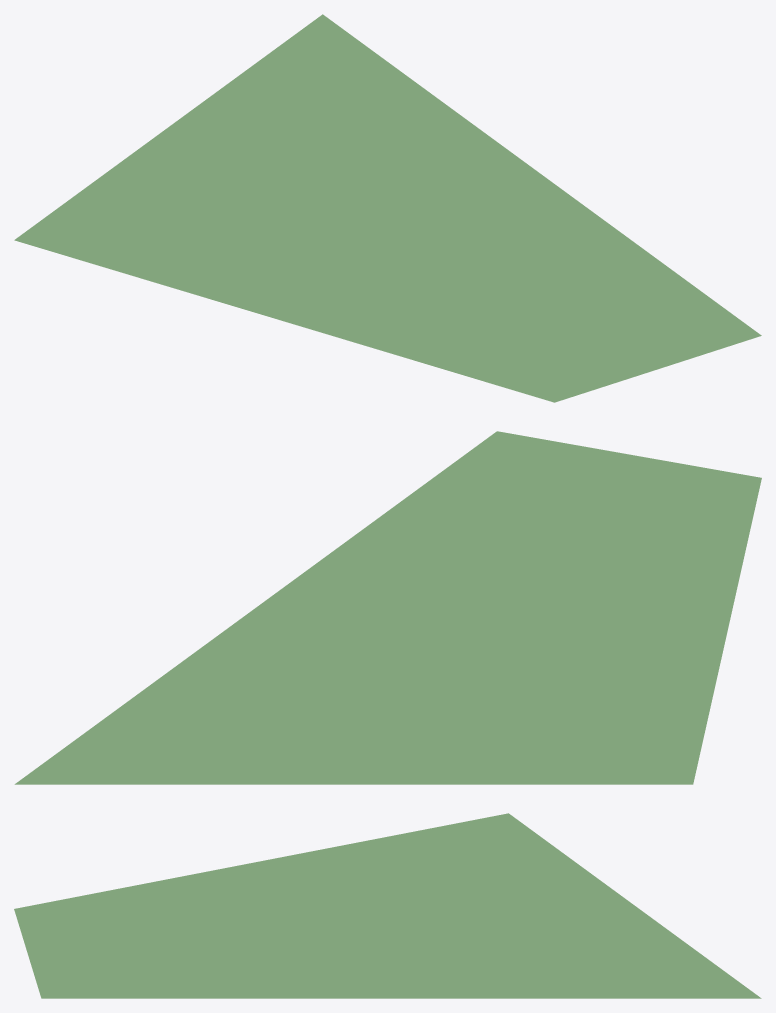
Rendered from L.BridgeEdge.L.B0.P0.O_L.O_BE0.0.fbx.
The picture shows the model from 3 angles, top to bottom: view 1: azimuth 30°, elevation 25°; view 2: azimuth 150°, elevation 25°; view 3: azimuth 270°, elevation 25°; orthographic projection. The views are drawn at different scales.
Visible parts, largest first — view 1: LBridgeEdge.L.0; view 2: LBridgeEdge.L.0; view 3: LBridgeEdge.L.0.
Part boxes in pixels (left/top/right/bottom): LBridgeEdge.L.0: left=14, top=14, right=761, bottom=402; LBridgeEdge.L.0: left=14, top=431, right=761, bottom=784; LBridgeEdge.L.0: left=14, top=813, right=761, bottom=998.
Size of the model in its own units: 0.2085 by 0.3556 by 0.
